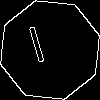I: (25, 25, 51, 73)
